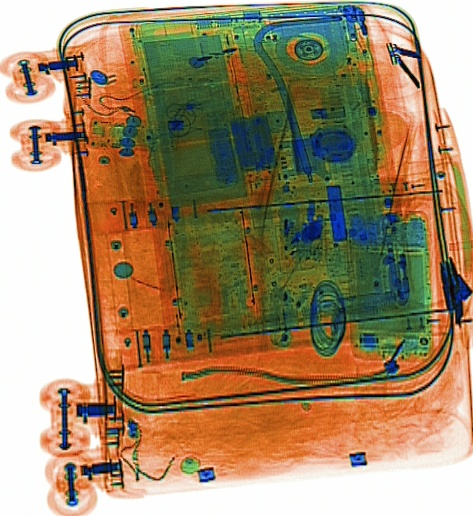powerbank: (199, 101, 304, 193)
